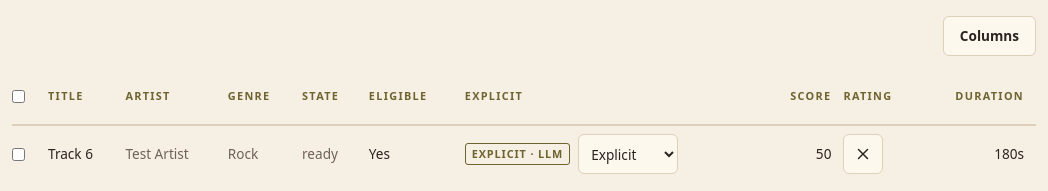
Test: Feature: Explicit classification in the Catalog page › Scenario: the operator overrides a row's classification › picking 'Clean' PUTs { explicit: false } (F95.3)
Select "Clean" in the dropdown named "Explicit override for Track 6" at (628, 154), box [578,134,678,174]
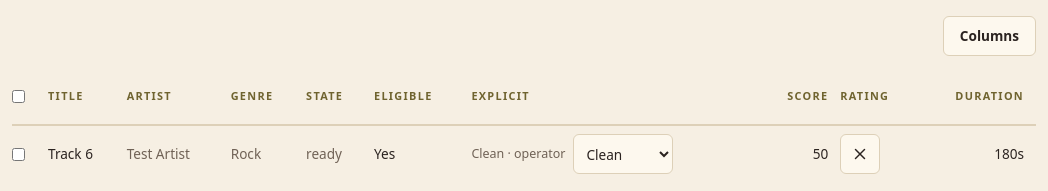
Expected: the text "Clean · operator" is shown, [471,145,565,163]
